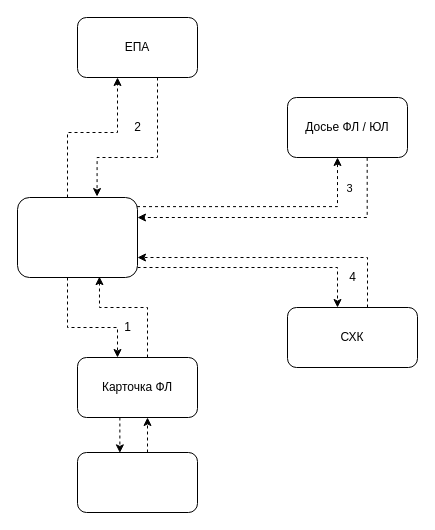
Image size: 435x530. Some labels were removed from this diagram. Each missing label, with the centre of its shape:
Spectrum: the point at 77,237
МДМ(Mdm_id) C 03.2022: the point at 137,482
